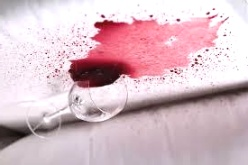wine: (70, 9, 216, 76)
